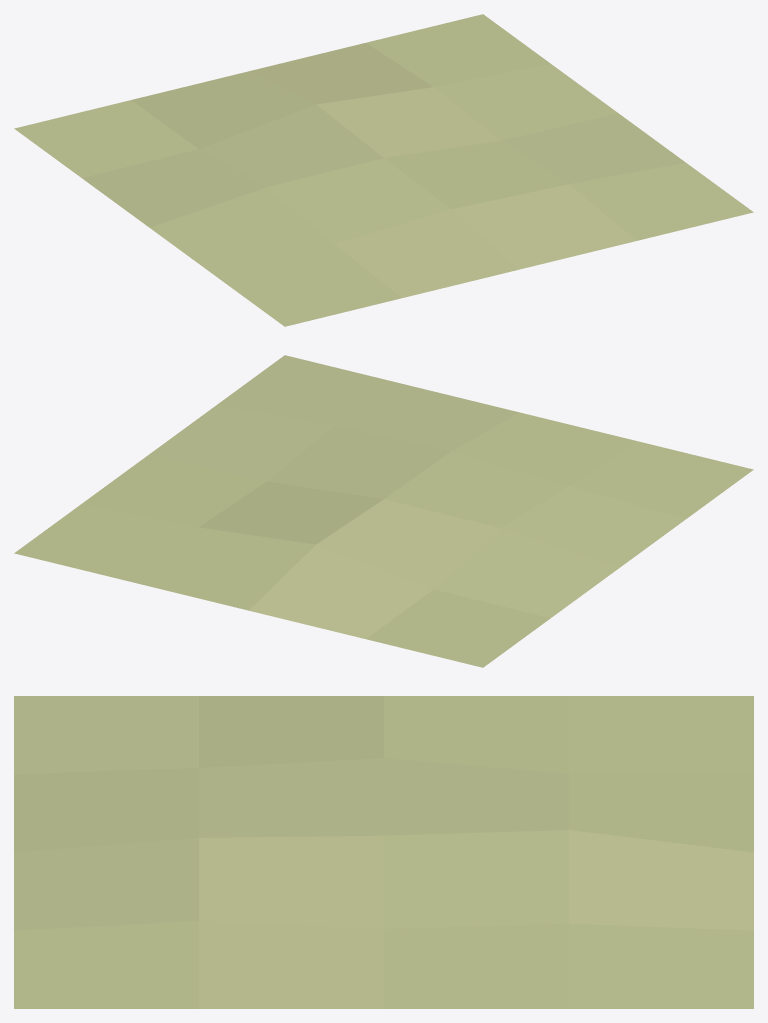
File: Tile_03_Grass_Dry.glb
3 renders of one model, top to bottom at view 1: azimuth 30°, elevation 25°; view 2: azimuth 150°, elevation 25°; view 3: azimuth 270°, elevation 25°, orthographic. The views are drawn at different scales.
Parts seen in each view (by area): view 1: Tile_Grass_Dry; view 2: Tile_Grass_Dry; view 3: Tile_Grass_Dry.
Boxes of the visible parts, x1=… form: Tile_Grass_Dry: x1=14, y1=14, x2=753, y2=326; Tile_Grass_Dry: x1=14, y1=355, x2=753, y2=667; Tile_Grass_Dry: x1=14, y1=696, x2=753, y2=1008.
Bounding box in the file's own units: 0.2 × 0.0067 × 0.2.
